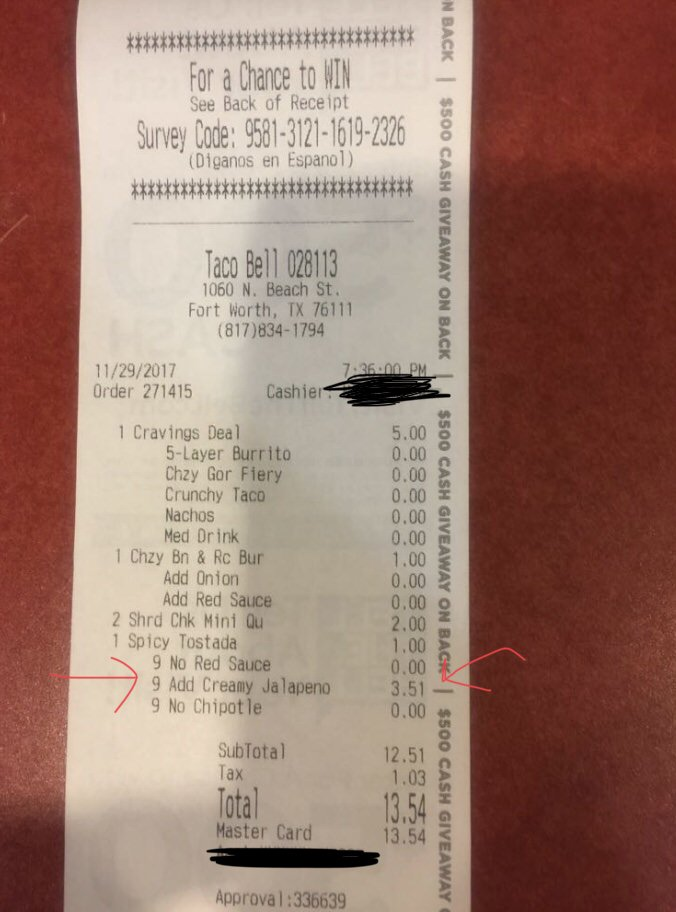Taco Bell: (195, 237, 285, 278)
